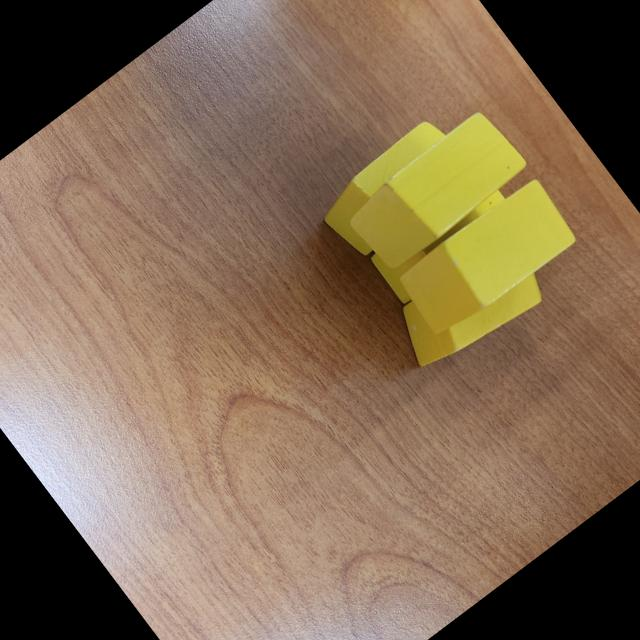yellow: (391, 171, 584, 345), (340, 105, 533, 277), (384, 229, 552, 384), (312, 113, 478, 264), (366, 170, 522, 308)
